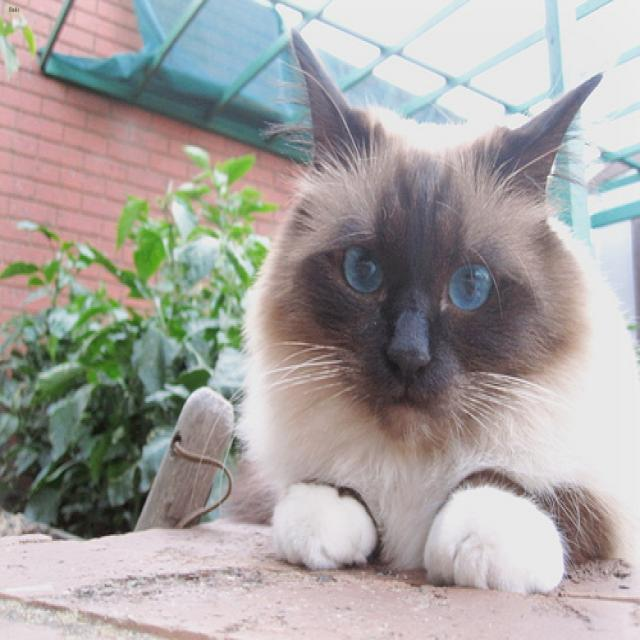Birman: (292, 28, 602, 441)
